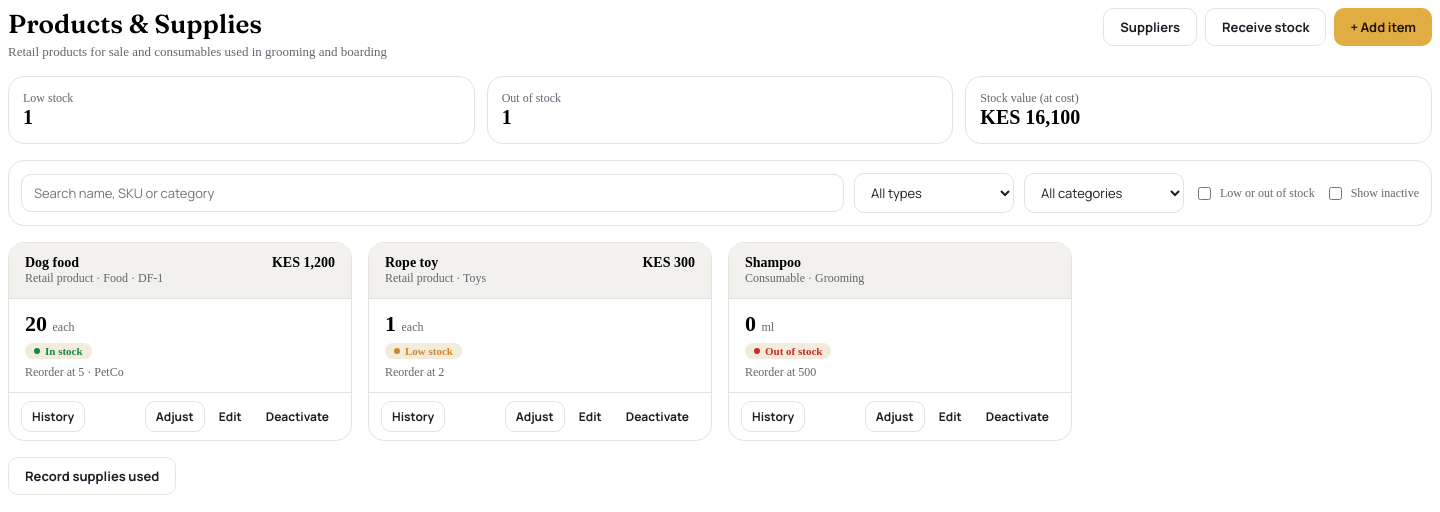
Test: SuppliesPage › filters to low and out-of-stock items
Check: the text "Dog food" is shown, box top-left (25, 255), bottom-right (79, 271)
Click the checkbox labelled "Low or out of stock".
click(1204, 193)  # box top-left (1198, 186), bottom-right (1211, 200)
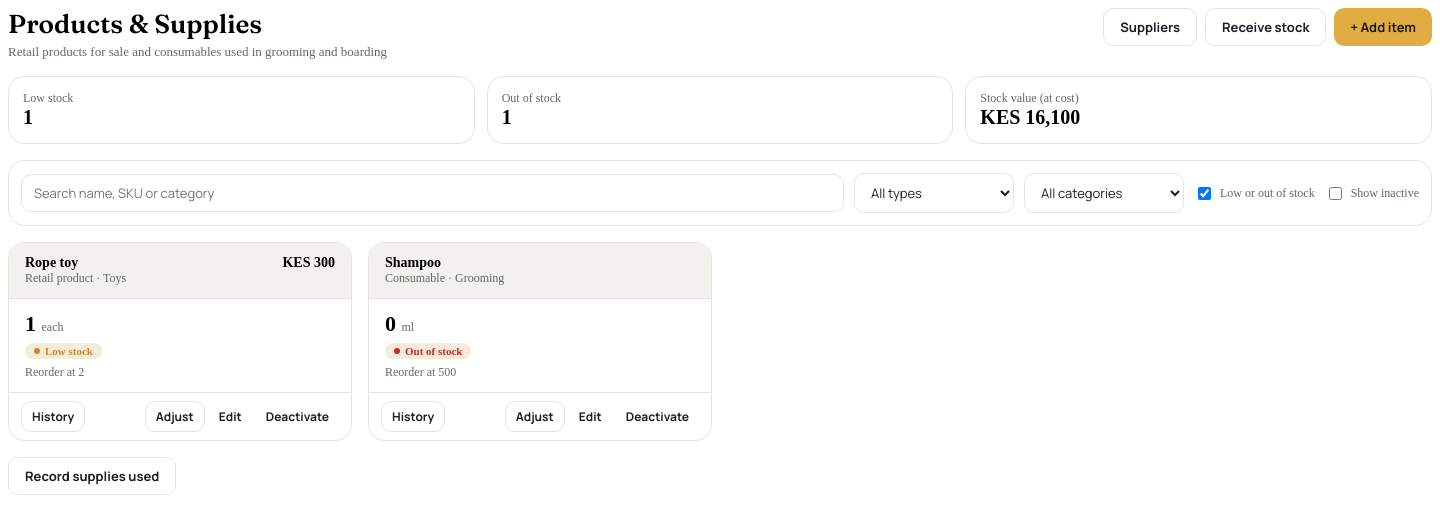
Check: the text "Rope toy" is shown, box top-left (25, 255), bottom-right (78, 271)
Check: the text "Dog food" is gone
